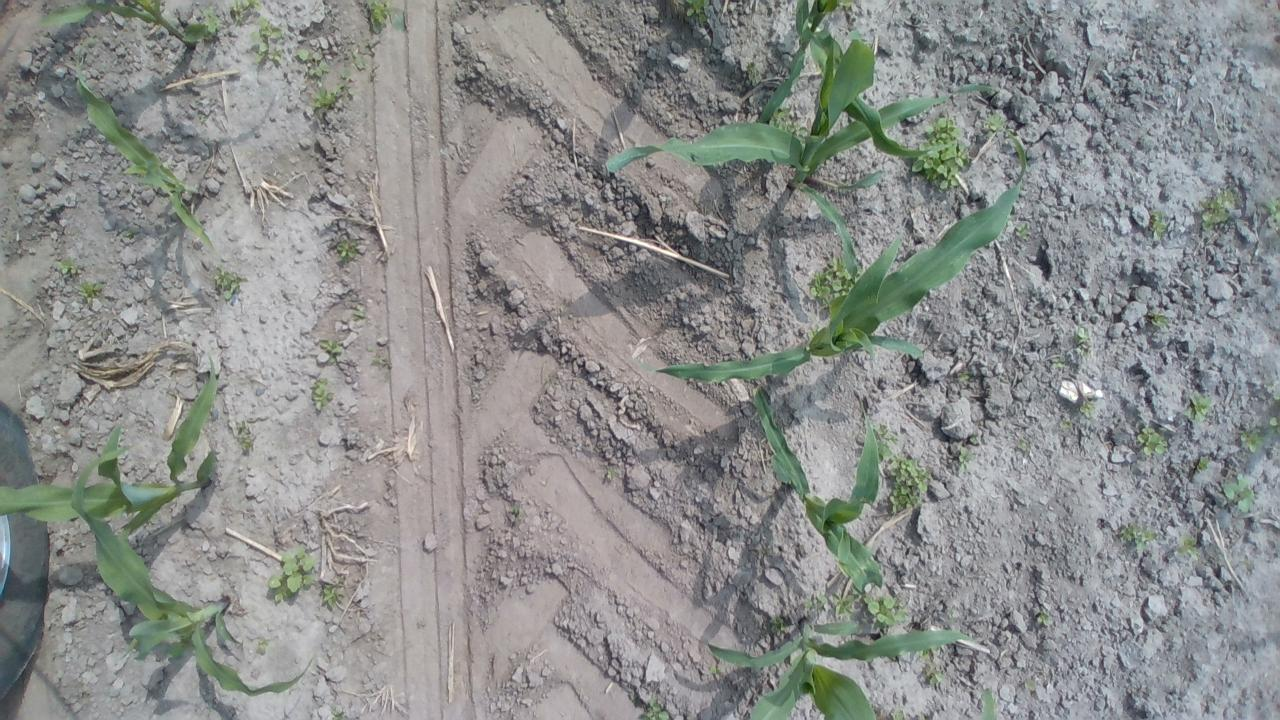Maize: (634, 116, 1028, 382), (605, 36, 999, 282), (70, 443, 316, 696), (0, 352, 218, 542), (756, 0, 950, 157), (749, 383, 888, 593), (74, 52, 216, 255), (706, 616, 979, 720), (34, 0, 210, 50), (979, 685, 997, 720)
Weeds: (911, 114, 971, 189), (886, 454, 934, 520), (268, 542, 316, 606), (250, 14, 286, 68), (1198, 186, 1240, 232), (862, 592, 908, 626), (365, 0, 408, 36), (810, 255, 848, 295), (212, 266, 250, 304), (1222, 472, 1254, 514), (1182, 392, 1218, 426), (1118, 523, 1158, 551), (919, 648, 948, 686), (296, 47, 332, 77), (872, 421, 899, 459), (347, 40, 379, 72), (1138, 426, 1171, 457), (310, 377, 334, 414), (635, 696, 671, 720), (320, 584, 348, 613), (333, 235, 361, 262), (236, 417, 256, 454), (1176, 532, 1200, 562), (1149, 207, 1169, 243), (230, 0, 260, 24), (1239, 427, 1265, 453), (334, 70, 356, 100), (686, 0, 712, 25), (310, 84, 336, 109), (830, 592, 856, 616), (318, 337, 342, 362), (1072, 328, 1092, 356), (81, 278, 104, 302), (979, 110, 1004, 131), (772, 106, 792, 132), (1264, 196, 1280, 227), (955, 445, 973, 472), (1076, 398, 1098, 420), (802, 591, 826, 610), (203, 8, 219, 34), (58, 255, 78, 274), (255, 636, 273, 656), (1148, 311, 1171, 326), (768, 616, 787, 634), (1014, 220, 1030, 240), (372, 352, 388, 370), (1049, 356, 1069, 370), (748, 61, 760, 83), (328, 704, 344, 720), (1267, 415, 1280, 434), (1036, 610, 1050, 627), (1196, 455, 1209, 473), (352, 309, 368, 323), (788, 127, 808, 138), (955, 370, 972, 382), (1016, 438, 1030, 452), (1056, 416, 1070, 429), (1024, 678, 1038, 691), (510, 503, 523, 517), (892, 702, 902, 720), (606, 468, 620, 480), (760, 542, 771, 557), (1264, 378, 1276, 391), (710, 662, 719, 676), (838, 0, 855, 7), (200, 113, 208, 127), (122, 230, 134, 238), (543, 376, 550, 388), (1273, 396, 1280, 407), (970, 437, 978, 445), (628, 691, 635, 699), (338, 577, 346, 583), (366, 346, 374, 352)
